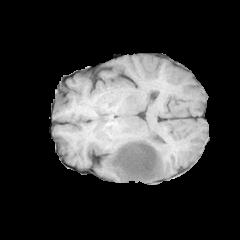glioma: (104, 133, 168, 182)
